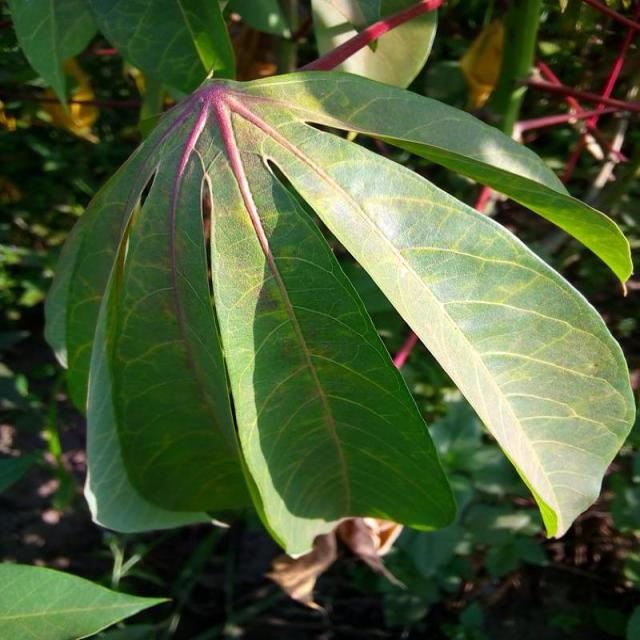cassava leaf: (45, 69, 636, 557)
